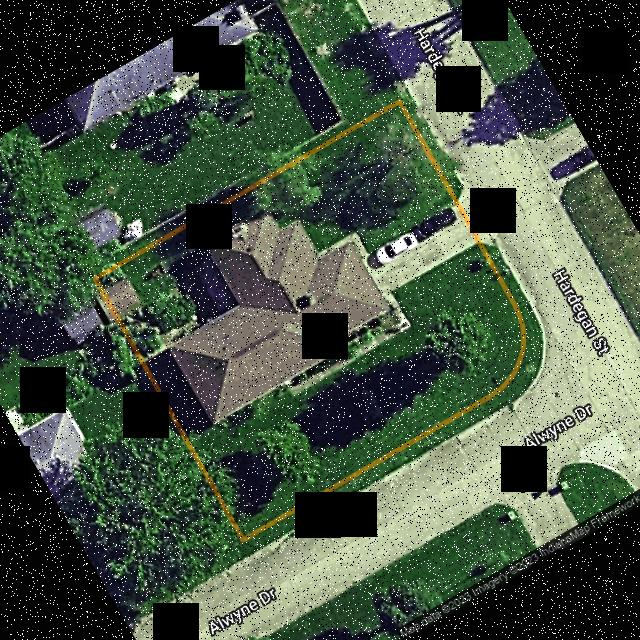Driveway: (362, 204, 476, 300)
Extra Driveway: (457, 187, 496, 245)
Extra Lawn: (242, 243, 542, 555), (399, 94, 462, 200)
House: (166, 214, 407, 424)
Other: (193, 259, 236, 313), (105, 278, 140, 316)
